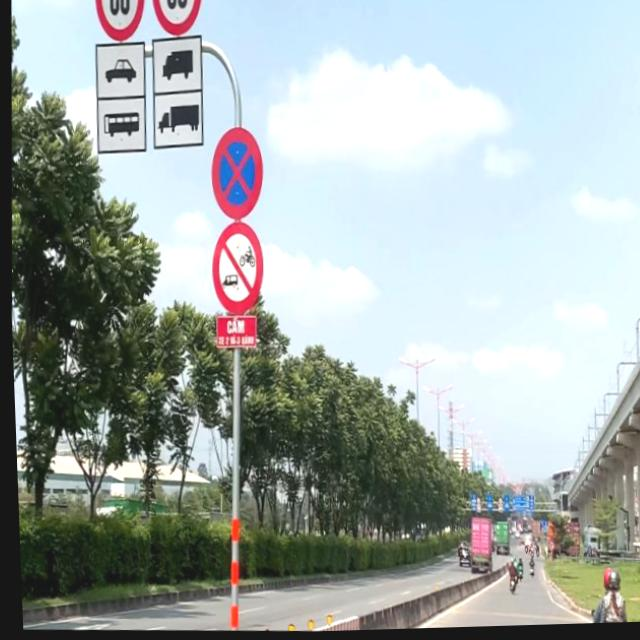Cam dung xe va do xe: (205, 122, 266, 224)
